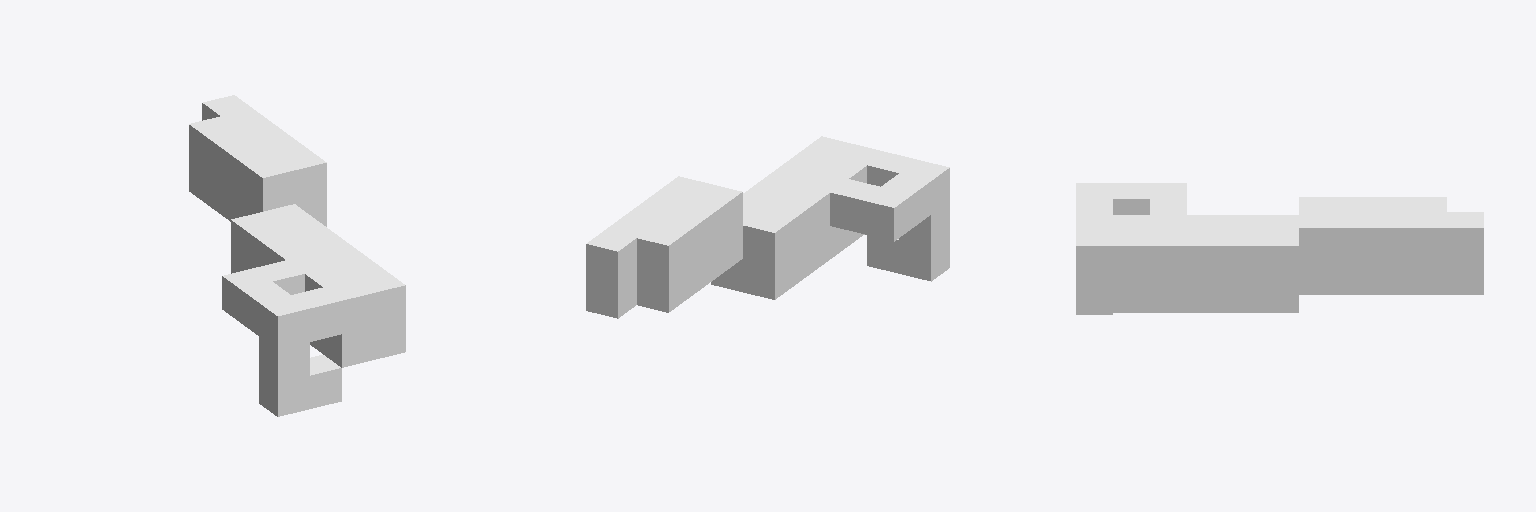
Rendered from Leg-6.obj.
3 renders of one model, left to right at view 1: azimuth 30°, elevation 25°; view 2: azimuth 150°, elevation 25°; view 3: azimuth 270°, elevation 25°, orthographic.
Parts seen in each view (by area): view 1: object 1; view 2: object 1; view 3: object 1.
Boxes of the visible parts, x1=… form: object 1: x1=189, y1=95, x2=405, y2=416; object 1: x1=586, y1=136, x2=949, y2=318; object 1: x1=1076, y1=183, x2=1483, y2=314.
Bounding box in the file's own units: 0.5 × 0.4 × 1.1.